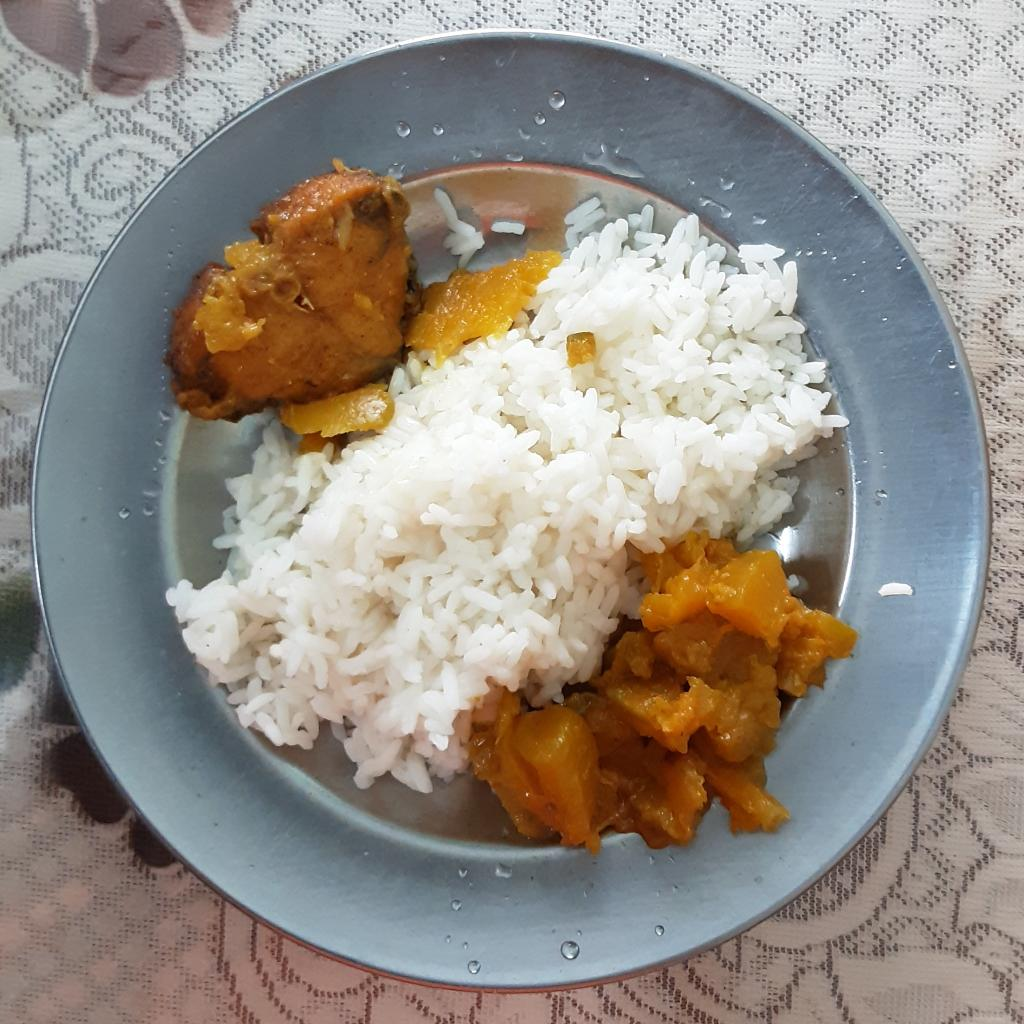fish: (166, 171, 409, 417)
kumra-vaji: (475, 533, 852, 853), (279, 248, 566, 439)
rice: (170, 199, 853, 792)
